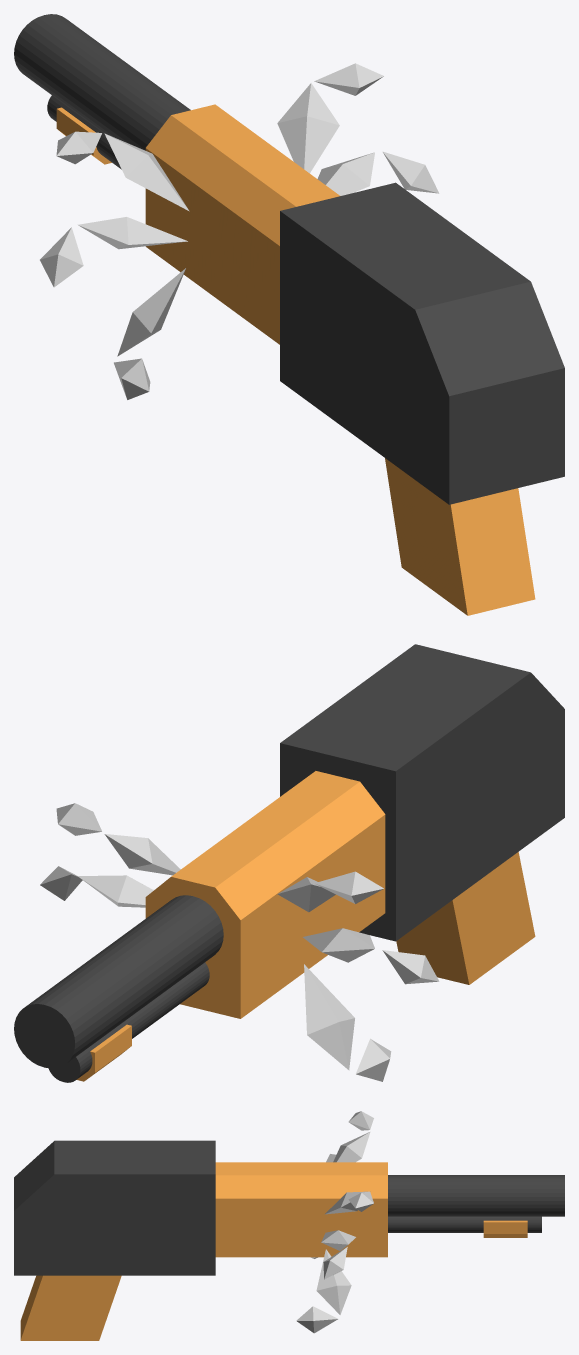
File: shotGun.fbx
3 views of the same model, one above another, from view 1: azimuth 30°, elevation 25°; view 2: azimuth 150°, elevation 25°; view 3: azimuth 270°, elevation 25° (orthographic). The views are drawn at different scales.
Parts seen in each view (by area): view 1: Cube; view 2: Cube; view 3: Cube.
Part boxes in pixels (box(x1,y1,x2,y2)): Cube: box(14, 14, 564, 615); Cube: box(14, 644, 564, 1082); Cube: box(14, 1111, 564, 1340).
Bounding box in the file's own units: 452 × 337 × 938.
